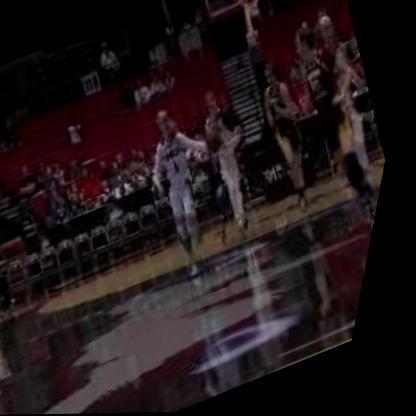basketball: (203, 127, 233, 157)
